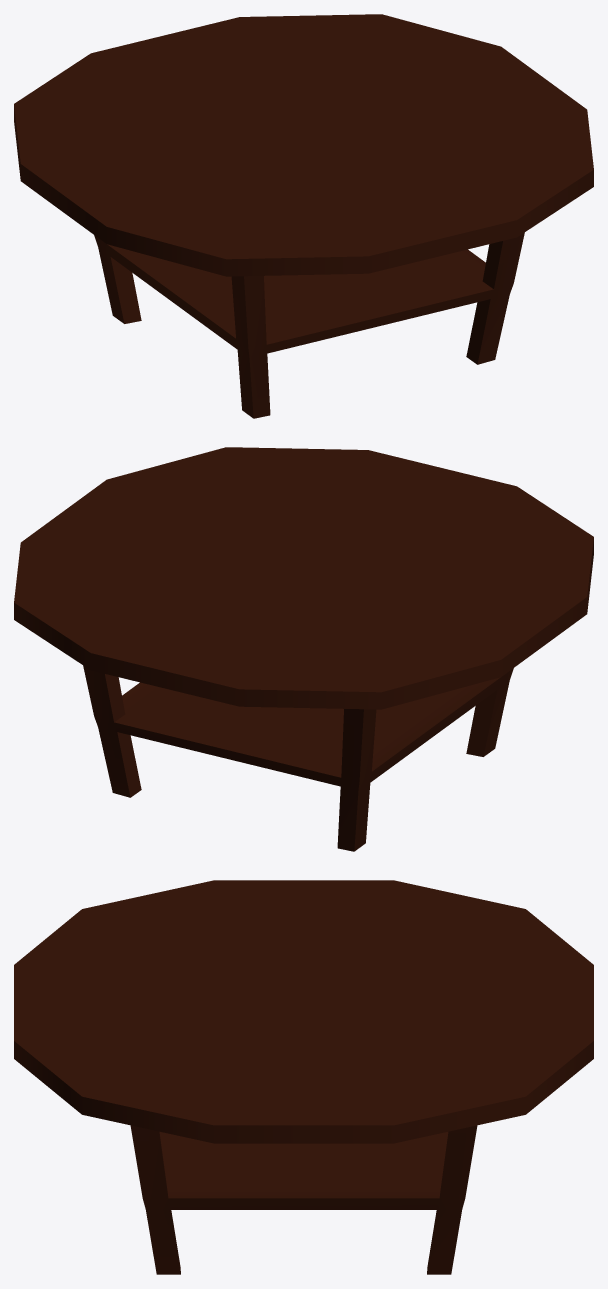
Rendered from roundTable.fbx.
The picture shows the model from 3 angles, top to bottom: view 1: azimuth 30°, elevation 25°; view 2: azimuth 150°, elevation 25°; view 3: azimuth 270°, elevation 25°; orthographic projection. The views are drawn at different scales.
Visible parts, largest first — view 1: pCube11; view 2: pCube11; view 3: pCube11.
Boxes of the visible parts, <box> form: pCube11: <box>14,14,593,418</box>; pCube11: <box>14,447,593,851</box>; pCube11: <box>14,880,593,1274</box>.
Size of the model in its own units: 5.67 by 2.28 by 5.67.
1 material, 1 textured.
